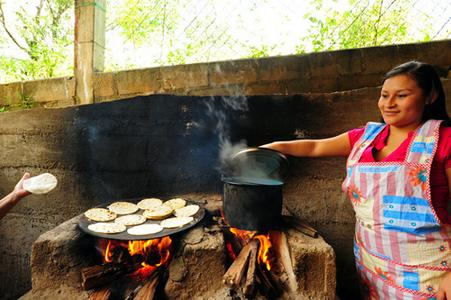person: (246, 62, 451, 300)
